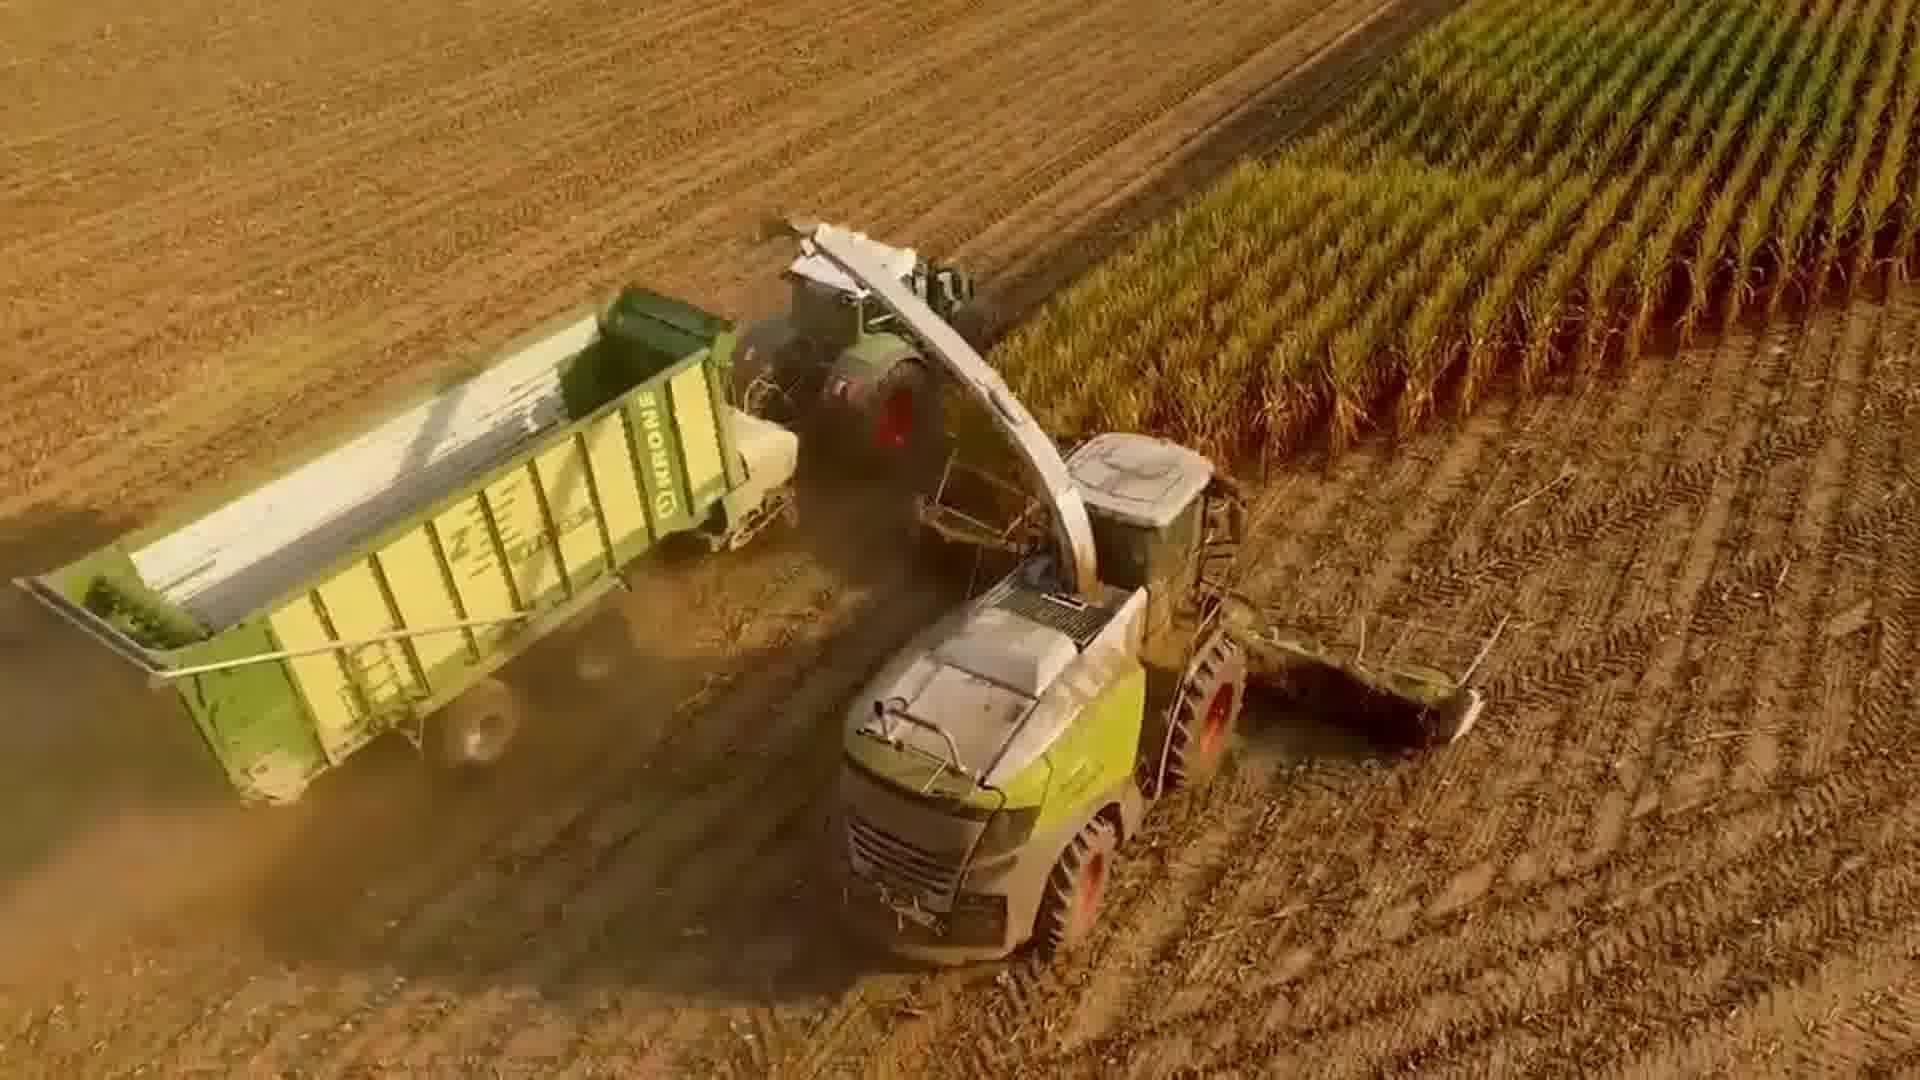combine harvester: (741, 190, 1515, 986)
tractor: (740, 187, 1005, 473)
trailer: (11, 268, 808, 828)
